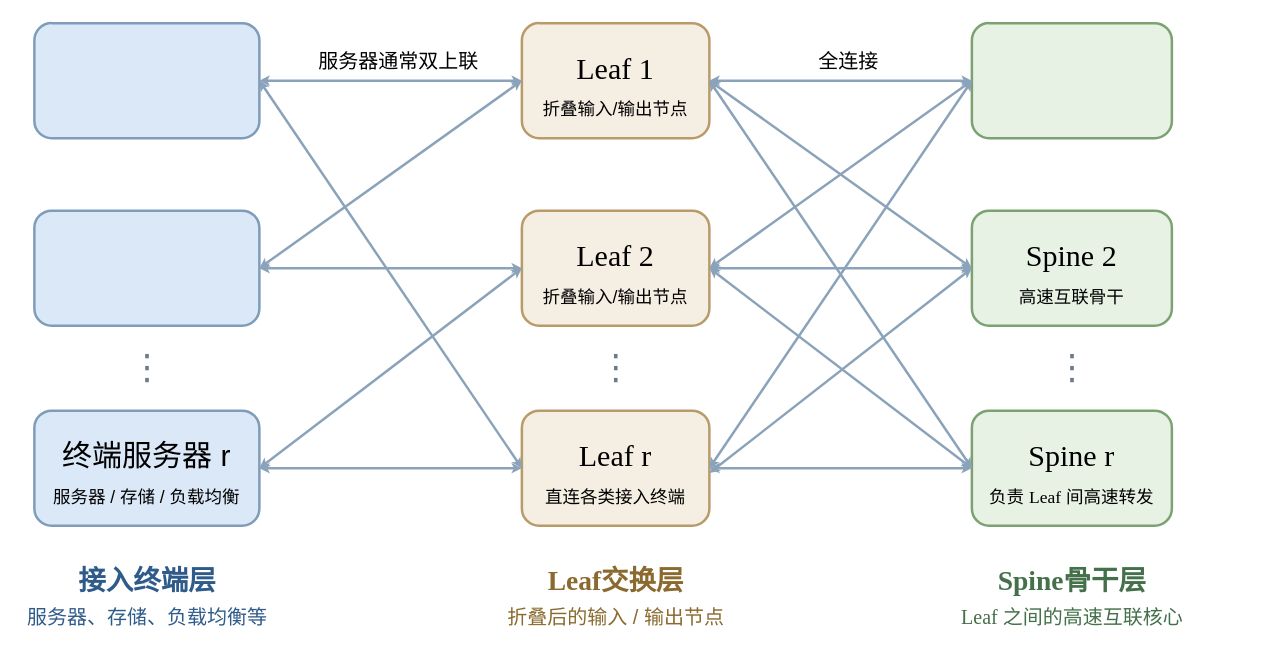
This 1268x653 diagram has some shape labels left out. The shapes that lost their labels are listed below. From the top down, each one's centre as x and y in pixels, then its label:
[146,80]: 终端服务器 1 Server / Storage / LB
[1071,80]: Spine 1 高速互联骨干
[146,267]: 终端服务器 2 Server / Storage / LB
